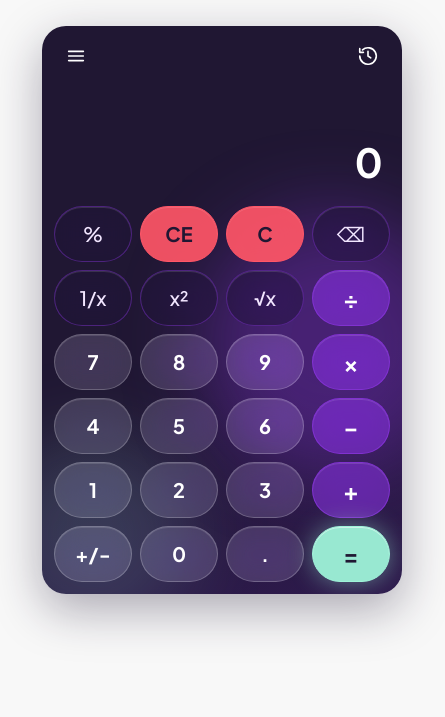
Scenario: App › keeps the Standard calculation when switching back
Step 1. Type keys "12+"
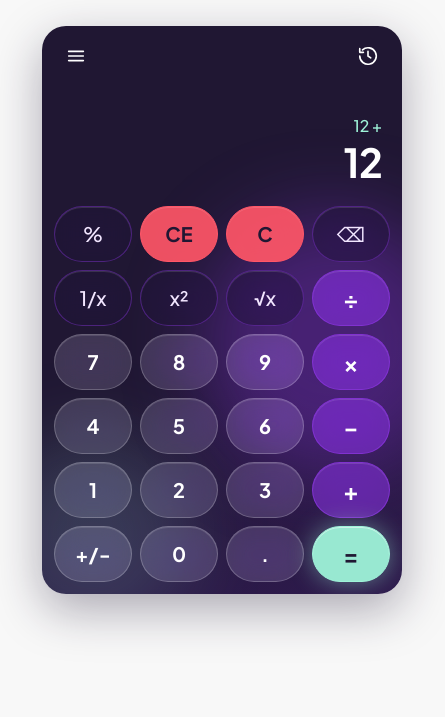
Step 2. Click the button named "Calculator mode" → (76, 56), box [54,34,98,78]
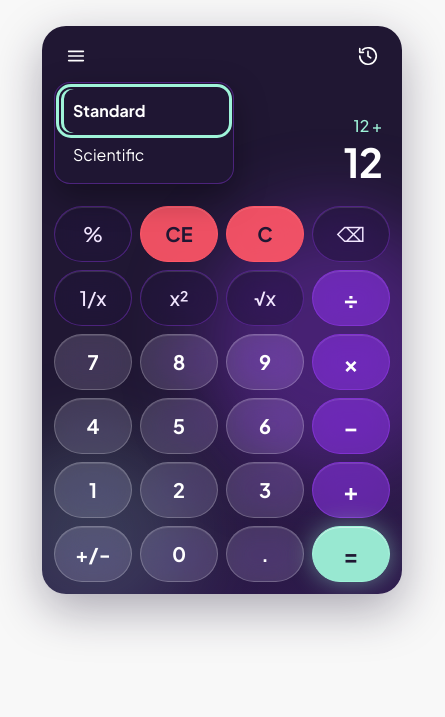
Step 3. Click the button "Scientific" → (144, 155), box [61,133,227,177]
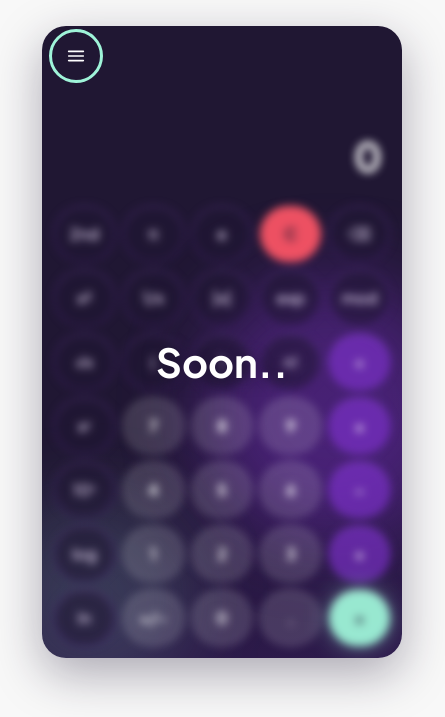
Step 4. Click the button named "Calculator mode" → (76, 56), box [54,34,98,78]
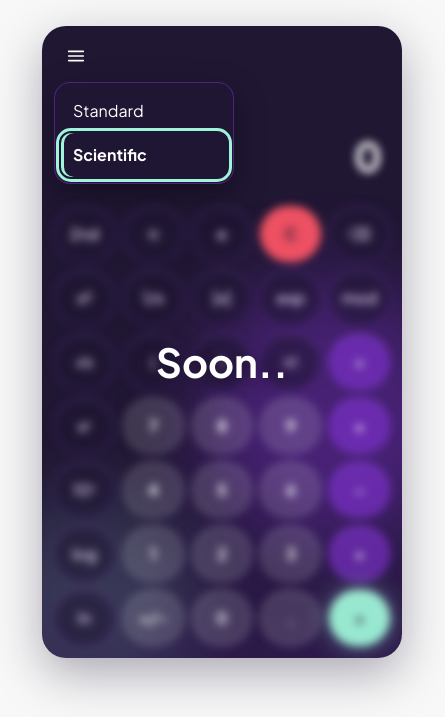
Step 5. Click the button "Standard" → (144, 111), box [61,89,227,133]
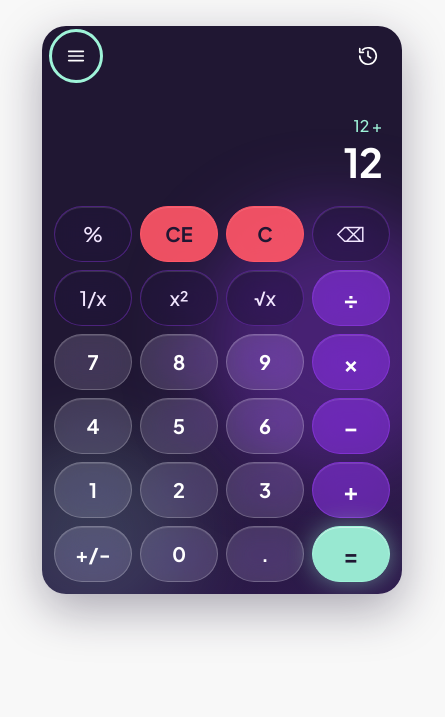
Result: the text with test id "expression" reads "12 +" at [354,115,382,136]
Result: the text with test id "value" reads "12" at [344,136,382,187]
